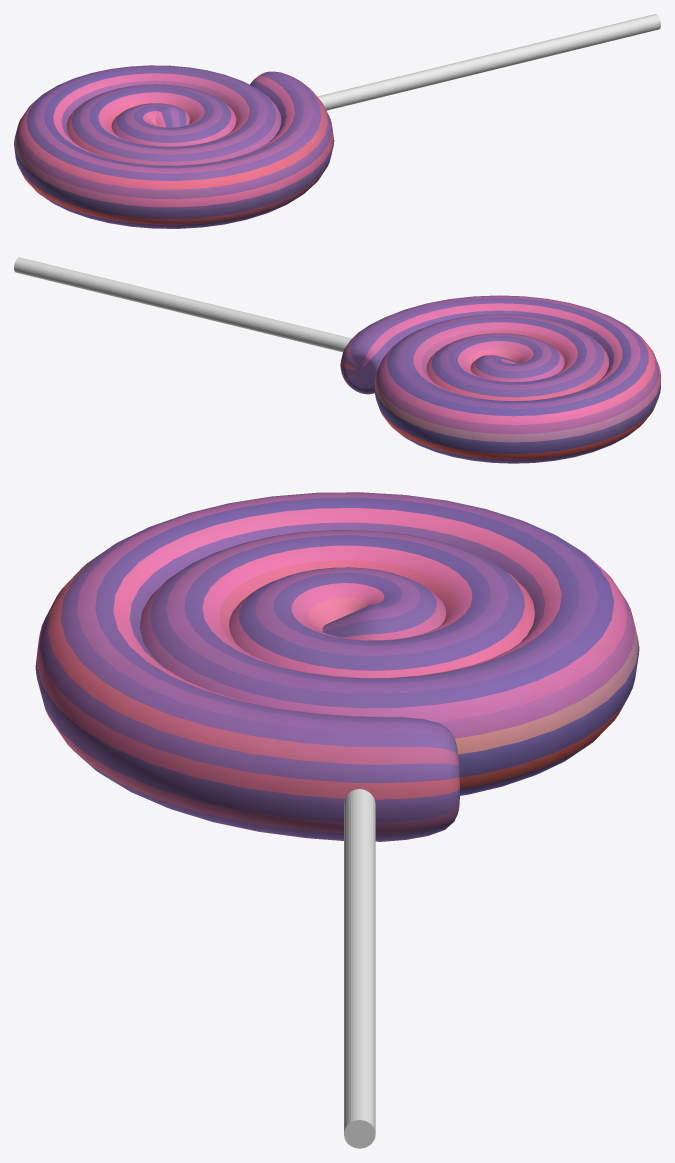
Rendered from lollipop_model.glb.
3 renders of one model, top to bottom at view 1: azimuth 30°, elevation 25°; view 2: azimuth 150°, elevation 25°; view 3: azimuth 270°, elevation 25°, orthographic. The views are drawn at different scales.
Parts seen in each view (by area): view 1: lolipop; view 2: lolipop; view 3: lolipop.
Boxes of the visible parts, box(x1,y1,x2,y2) form: lolipop: box(14, 14, 660, 228); lolipop: box(14, 257, 660, 463); lolipop: box(35, 492, 639, 1148).
Bounding box in the file's own units: 16.95 × 1.5 × 7.15.
Materials: 2 (1 with a texture image).
